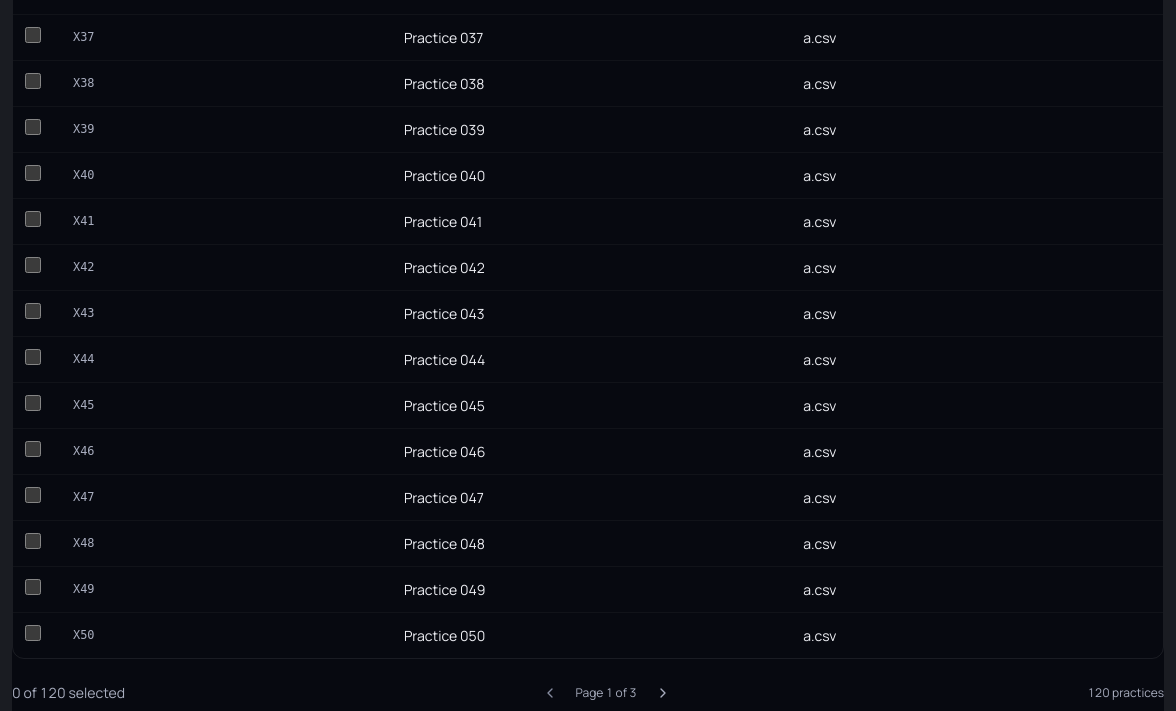
Test: DataTable pagination › renders 50 of 120 rows, shows "Page 1 of 3", and Next shows the next 50
(page scrolled)
Expected: the text "Page 1 of 3" is shown, [576,685,637,701]
Click the button named "next" at [663, 693], box [645,675,681,710]
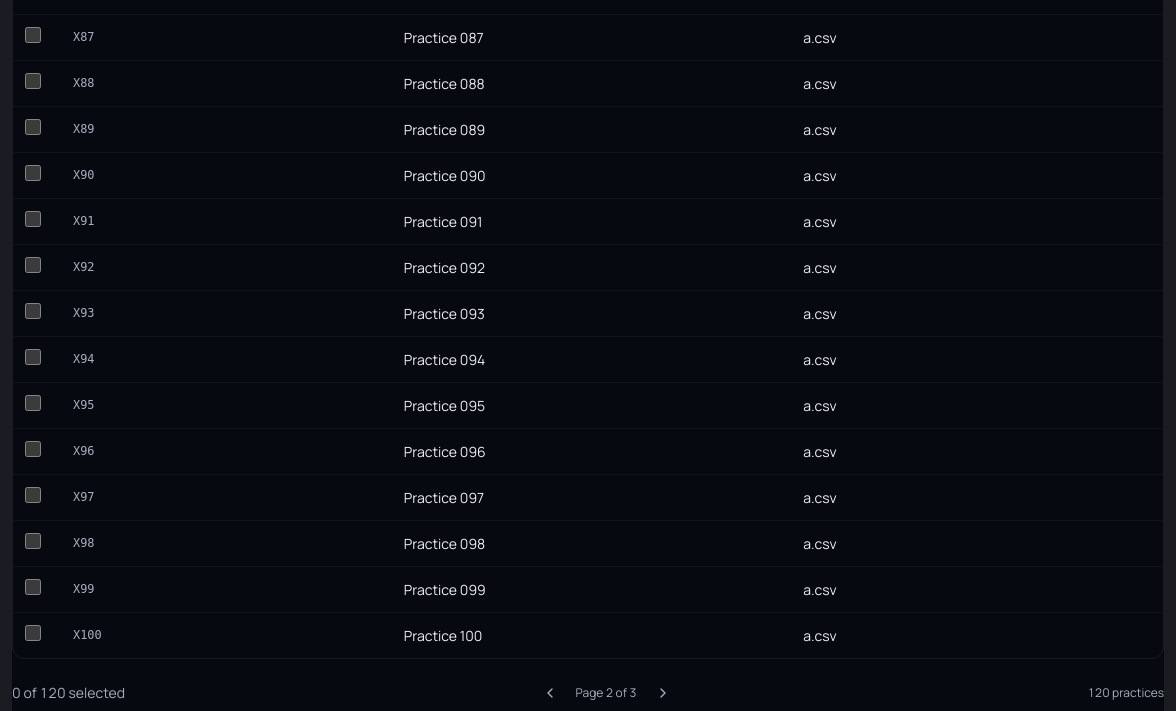
Now the text "Page 2 of 3" is shown, box [576,685,637,701]
Now the text "Practice 100" is shown, box [392,612,791,658]
Click the button named "previous" at [550, 693], box [532,675,568,710]
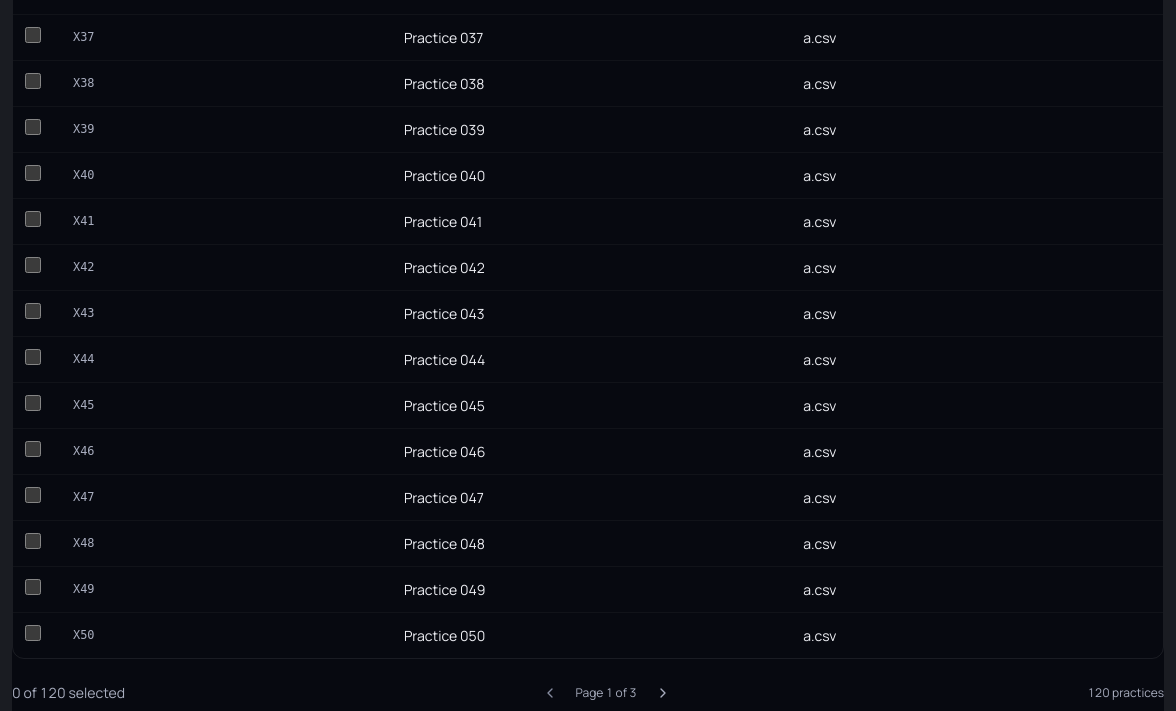
Now the text "Page 1 of 3" is shown, box [576,685,637,701]
